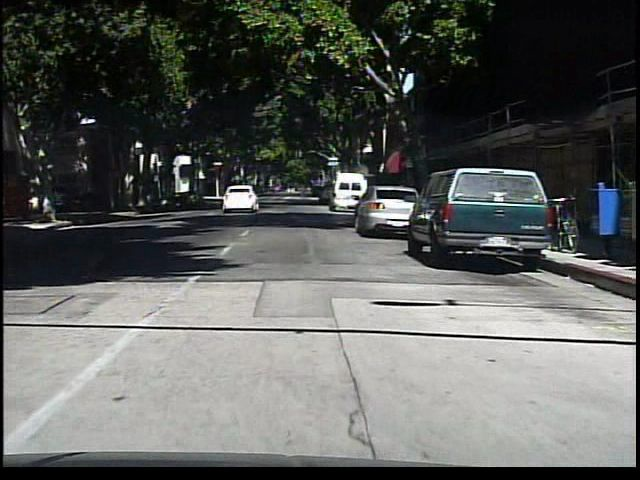person: (45, 179, 62, 222), (294, 178, 313, 206)
